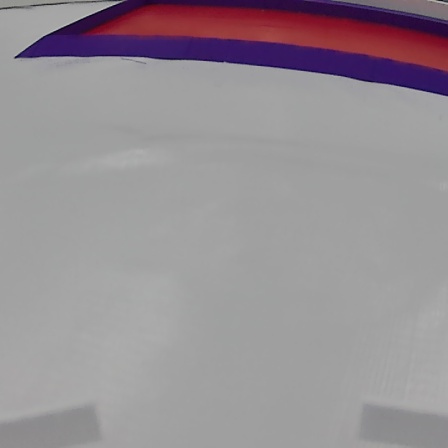red_aim: (4, 1, 448, 92)
